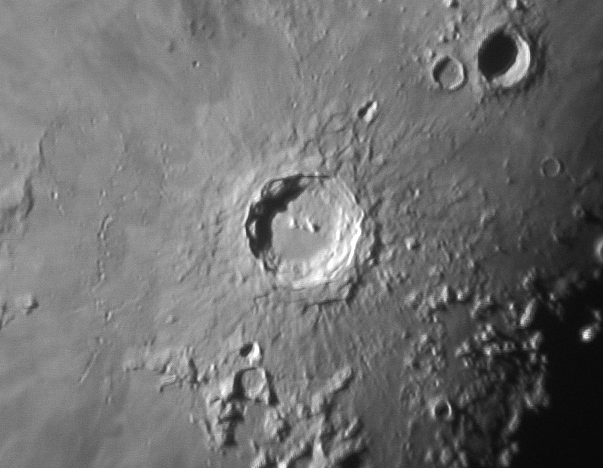crater: (212, 145, 385, 315), (463, 12, 556, 118), (406, 39, 472, 114), (529, 139, 580, 193), (177, 47, 220, 91), (425, 390, 463, 434)
